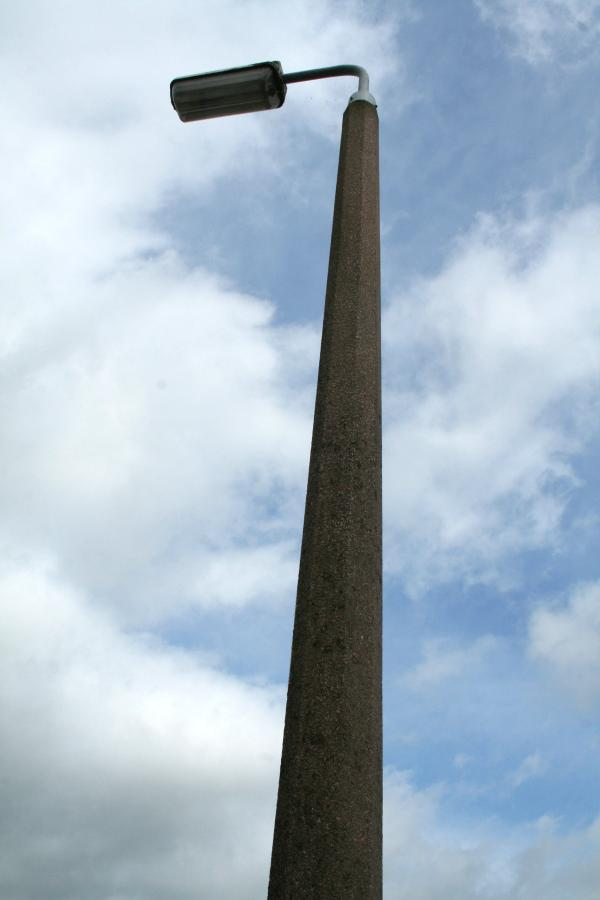light_pole: (282, 59, 410, 896)
